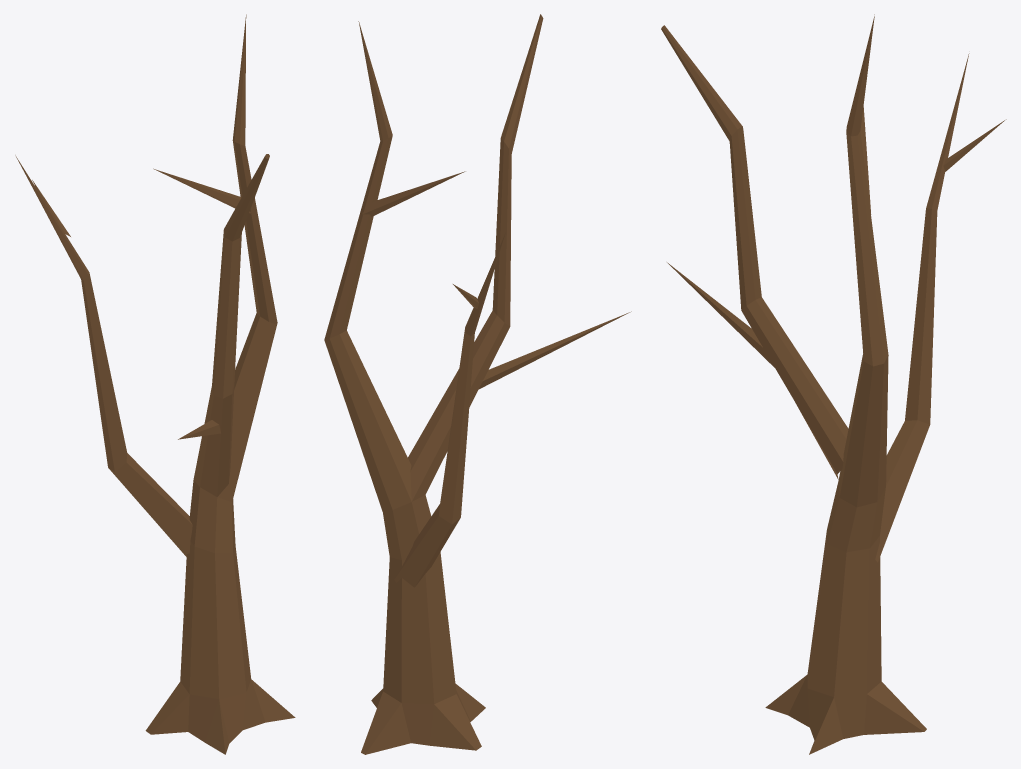
Rendered from tree-old.glb.
3 renders of one model, left to right at view 1: azimuth 30°, elevation 25°; view 2: azimuth 150°, elevation 25°; view 3: azimuth 270°, elevation 25°, orthographic. The views are drawn at different scales.
Parts seen in each view (by area): view 1: tree-old; view 2: tree-old; view 3: tree-old.
Boxes of the visible parts, bbox=[...] form: tree-old: bbox=[15, 14, 295, 754]; tree-old: bbox=[324, 14, 631, 754]; tree-old: bbox=[661, 14, 1006, 754].
Size of the model in its own units: 1.89 by 5.67 by 2.43.
1 material, 1 textured.
